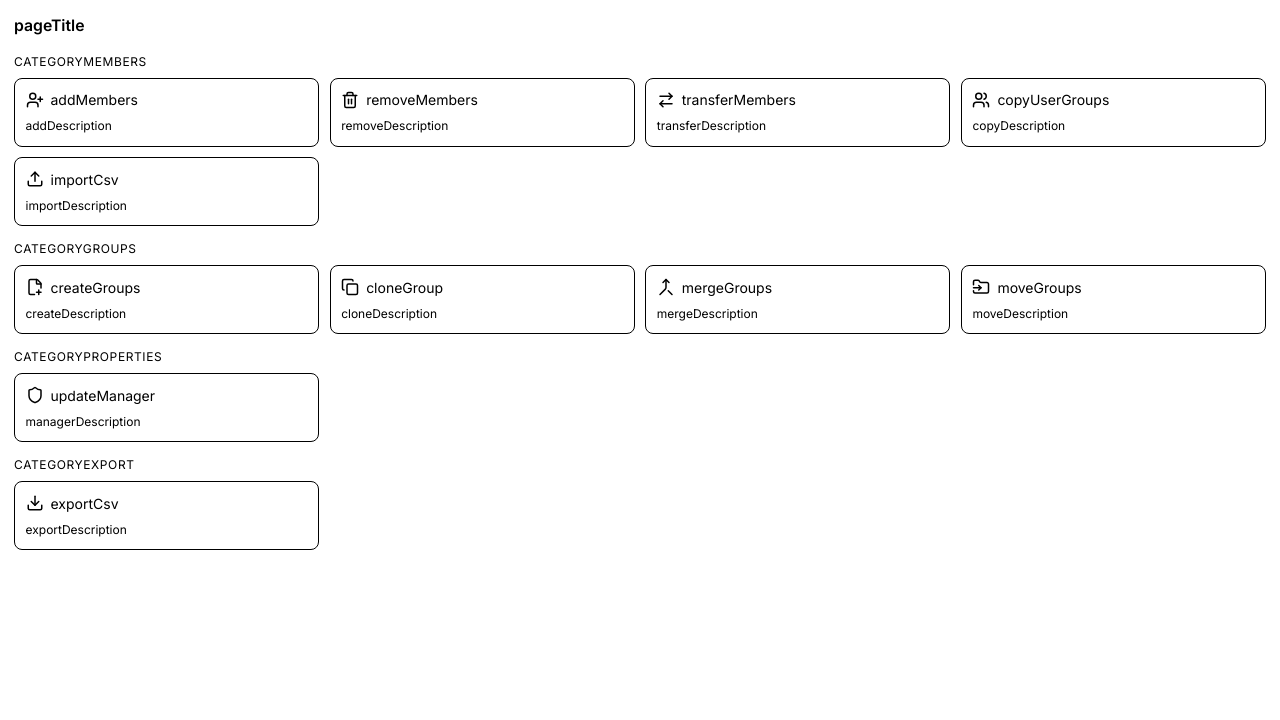
Test: BulkOperations › back button returns to operation picker
Step 1. Click the button with test id "op-card-delete" → (422, 100), box left=330, top=78, right=635, bottom=146
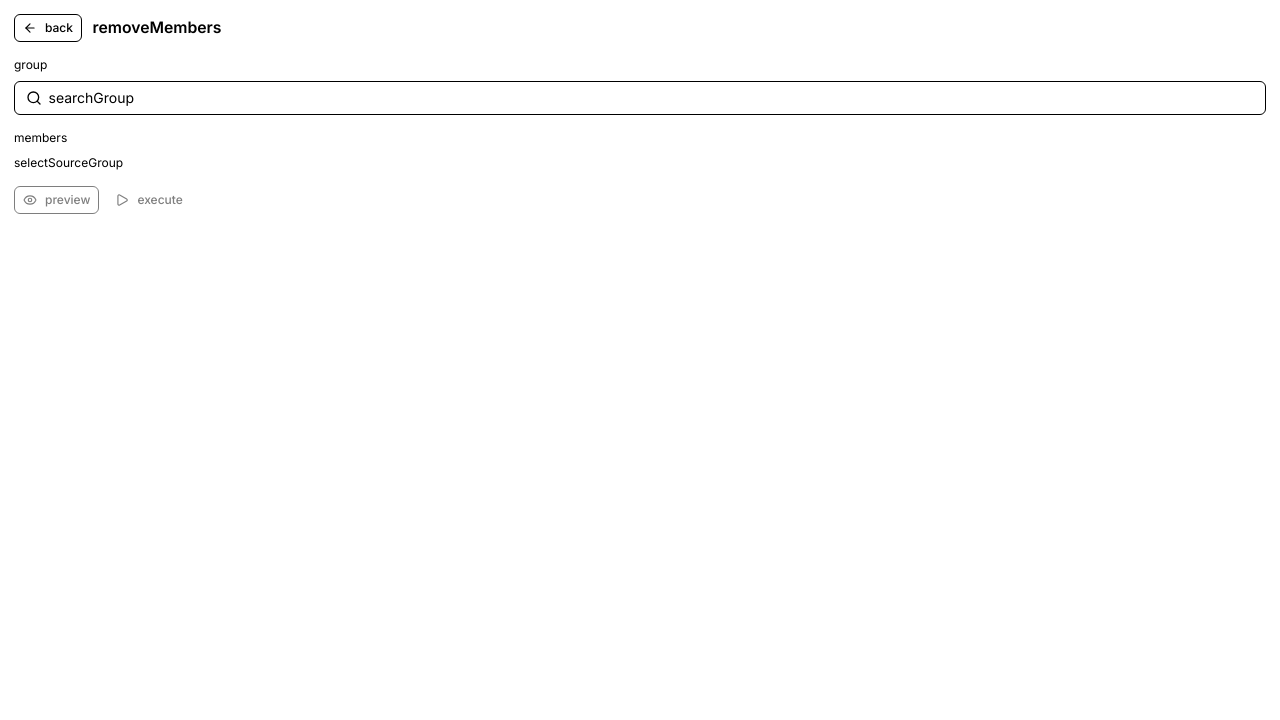
Check: the button with test id "bulk-back-btn" is shown
Step 2. Click the button with test id "bulk-back-btn" → (48, 28), box left=14, top=14, right=82, bottom=42
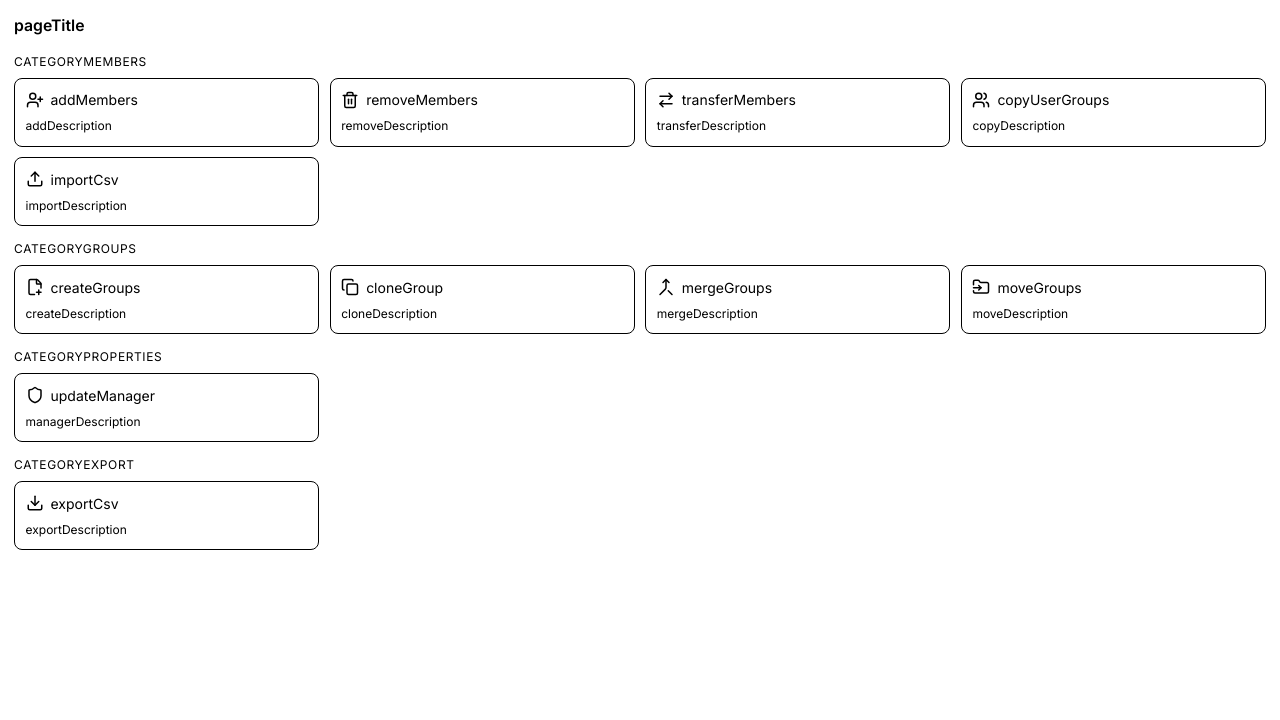
Check: the element with test id "operation-picker" is shown
